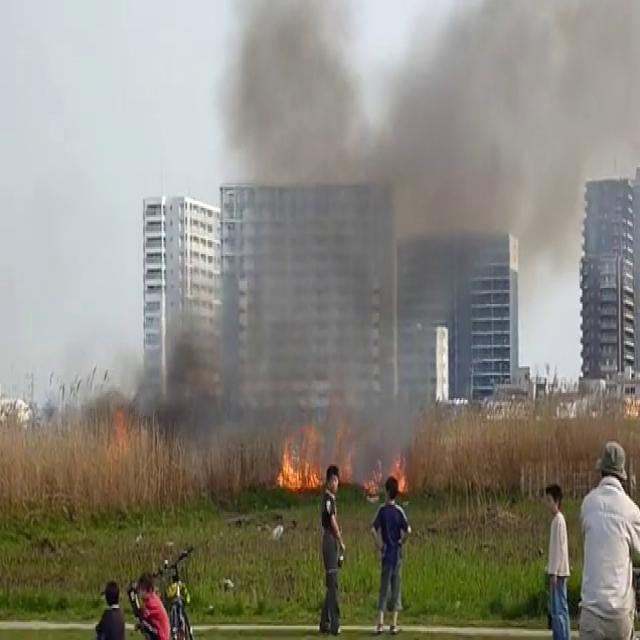Smoke: (155, 0, 640, 468)
